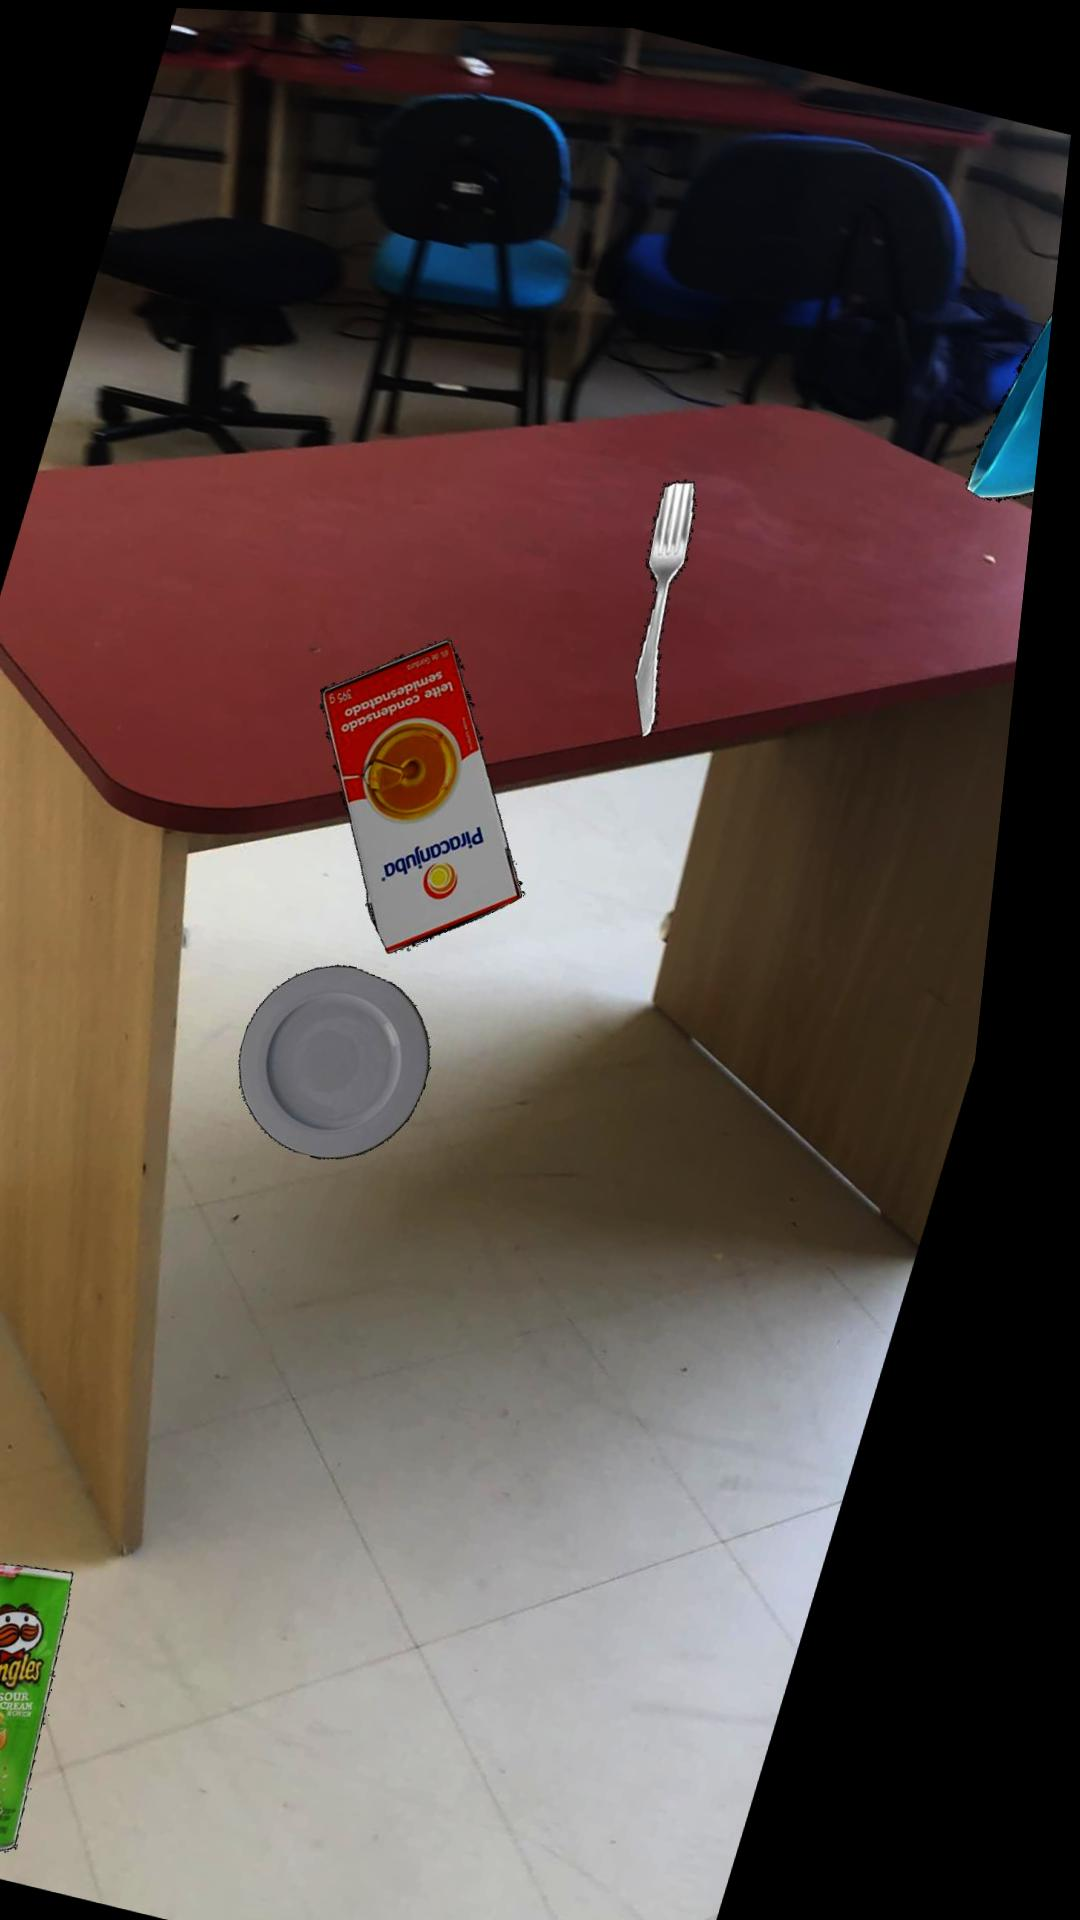bowl: (975, 298, 1059, 491)
fork: (647, 472, 704, 728)
plate: (261, 959, 451, 1154)
pringles: (0, 1560, 107, 1849)
